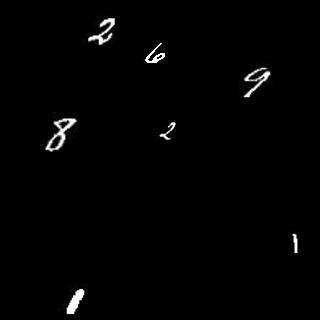eight: (44, 111, 79, 150)
nine: (242, 65, 273, 98)
one: (67, 287, 86, 315), (290, 231, 301, 257)
six: (144, 40, 166, 64)
two: (85, 14, 120, 45), (156, 117, 180, 143)
